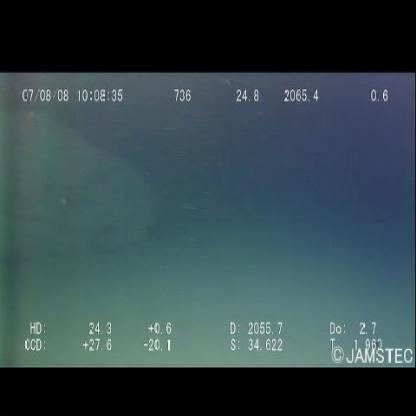Rác: (1, 102, 169, 276)
